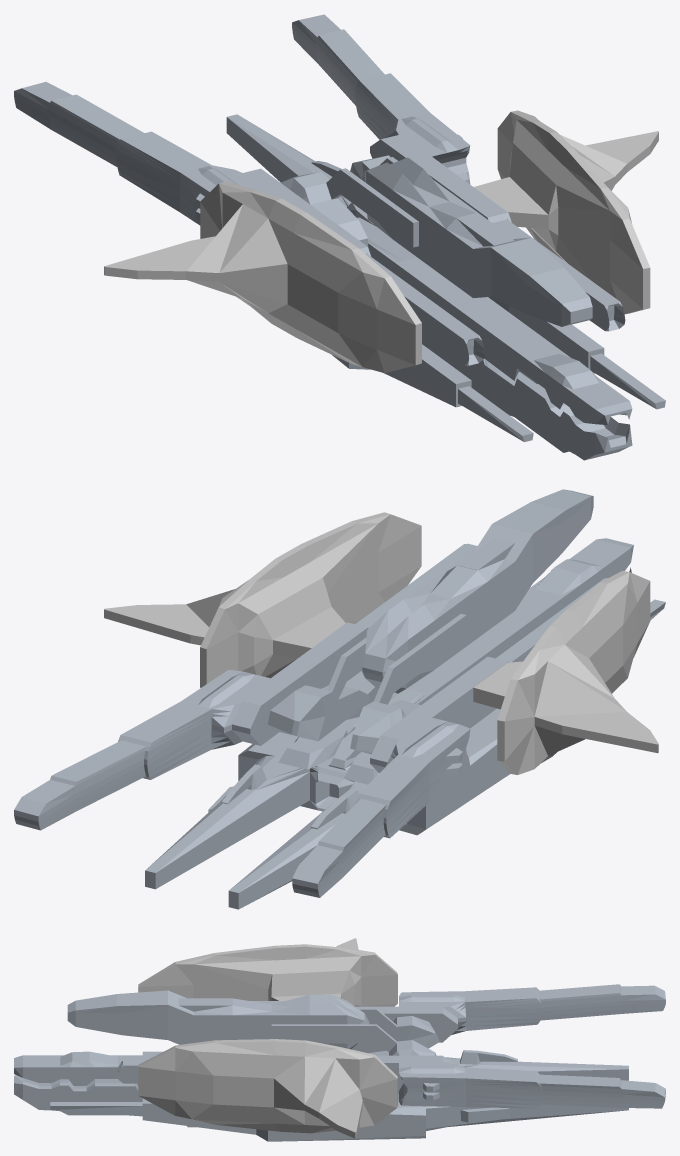
File: player.obj
The picture shows the model from 3 angles, top to bottom: view 1: azimuth 30°, elevation 25°; view 2: azimuth 150°, elevation 25°; view 3: azimuth 270°, elevation 25°; orthographic projection. The views are drawn at different scales.
Visible parts, largest first — view 1: 羽→, 立方体, 羽, 主砲↓, 立方体.002, 立方体.001, 主砲↑; view 2: 立方体, 羽, 主砲↓, 羽→, 立方体.001, 立方体.002, 主砲↑; view 3: 羽, 立方体, 主砲↓, 羽→, 立方体.001, 立方体.002, 主砲↑.
Part boxes in pixels (bbox=[...]): 羽→: bbox=[104, 181, 421, 373]; 立方体: bbox=[281, 155, 592, 326]; 羽: bbox=[474, 110, 658, 314]; 主砲↓: bbox=[226, 114, 665, 460]; 立方体.002: bbox=[14, 82, 484, 365]; 立方体.001: bbox=[292, 14, 625, 331]; 主砲↑: bbox=[357, 217, 632, 424]; 立方体: bbox=[268, 489, 593, 754]; 羽: bbox=[104, 512, 421, 687]; 主砲↓: bbox=[145, 567, 665, 909]; 羽→: bbox=[473, 571, 658, 774]; 立方体.001: bbox=[14, 543, 477, 830]; 立方体.002: bbox=[292, 578, 607, 897]; 主砲↑: bbox=[328, 538, 633, 770]; 羽: bbox=[138, 1039, 397, 1138]; 立方体: bbox=[67, 990, 438, 1055]; 主砲↓: bbox=[14, 1050, 628, 1141]; 羽→: bbox=[138, 938, 397, 1006]; 立方体.001: bbox=[117, 1055, 665, 1108]; 立方体.002: bbox=[356, 984, 665, 1042]; 主砲↑: bbox=[14, 1051, 155, 1086].
Size of the model in its own units: 5.99 by 1.84 by 8.49.
